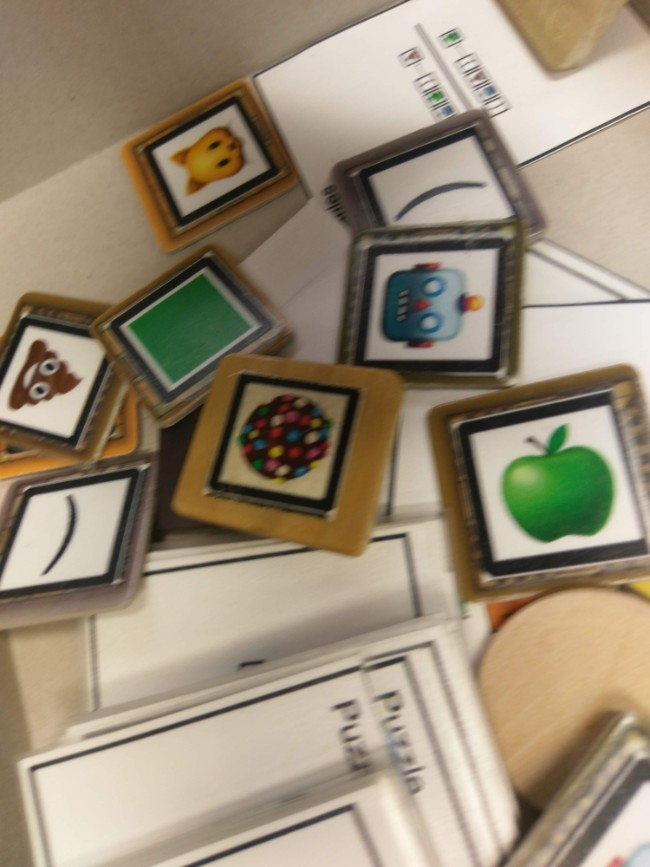cookie: (210, 374, 356, 515)
